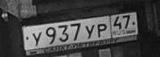license-plate: (22, 11, 139, 51)
